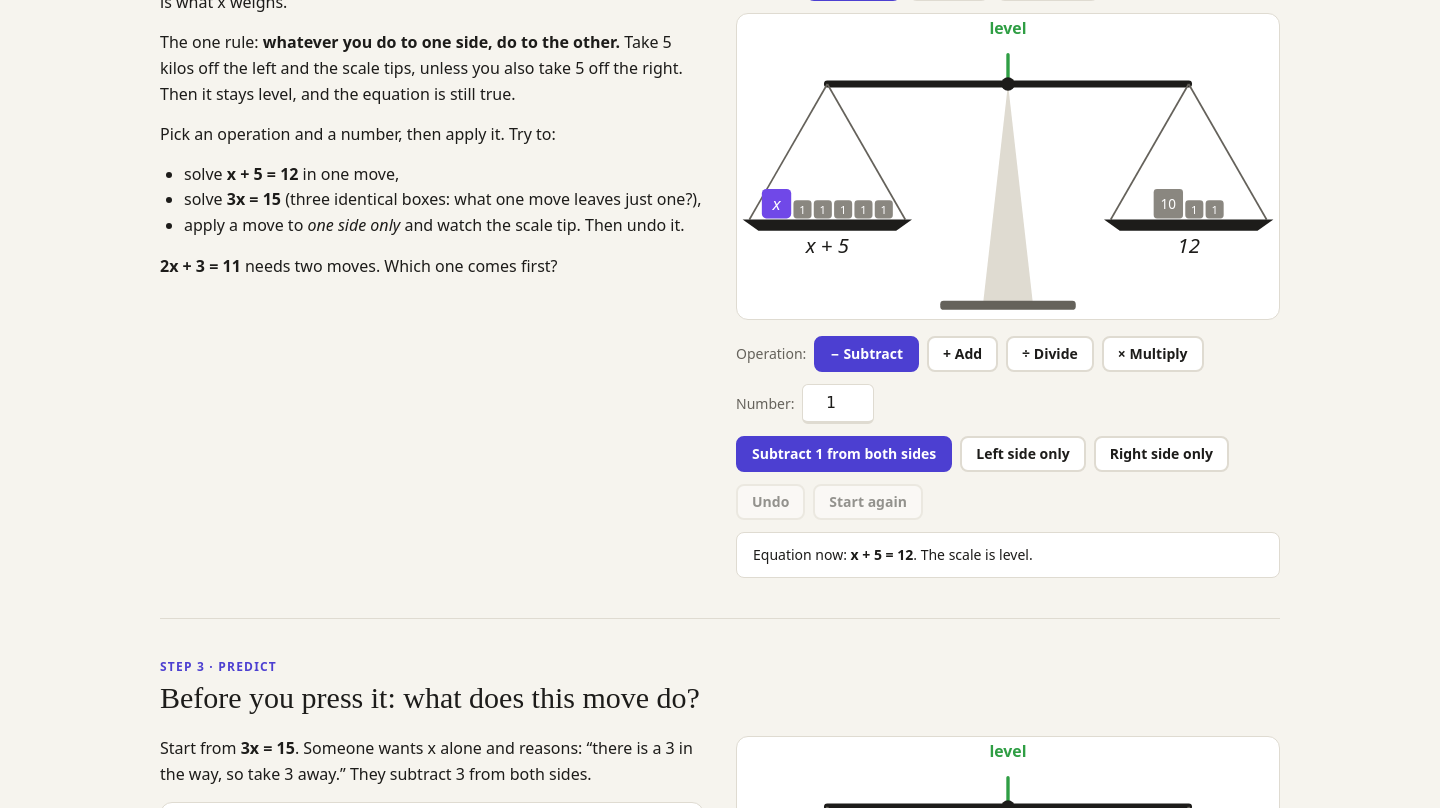
Variables and equations lesson › tips the scale when a move is applied to one side only, and undo levels it
(page scrolled)
Step 1. Replace the text in the number field named "Step 2: amount" with "5" → coordinates (838, 404), box [802,384,874,424]
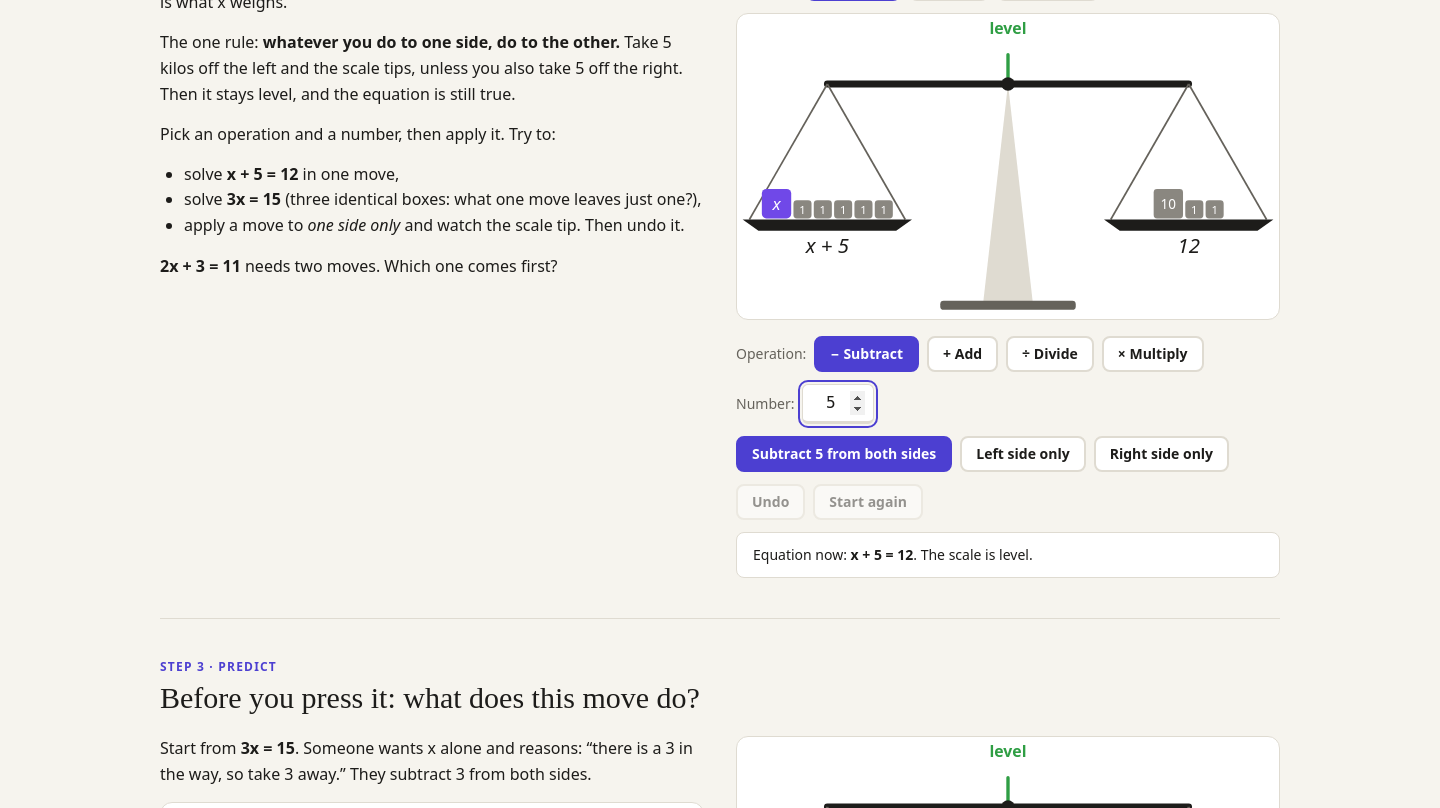
Step 2. Click the button with aria-label "Subtract 5 from the left side only" → coordinates (1023, 454), box [960,436,1086,472]
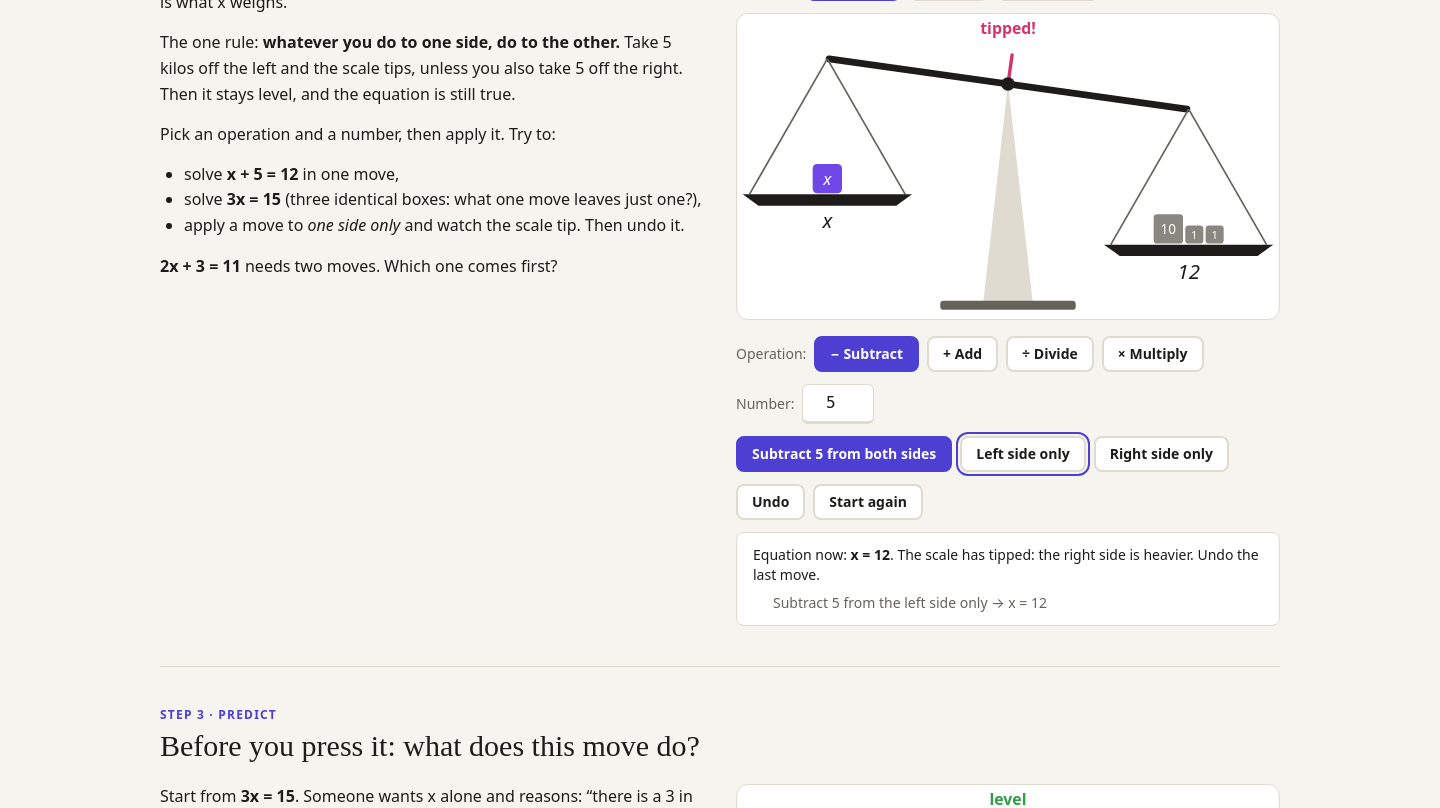
Check: the text "the right side is heavier" is shown, box [753,545,1259,584]
Step 3. Click the button "Undo" → coordinates (771, 502), box [736,484,805,520]
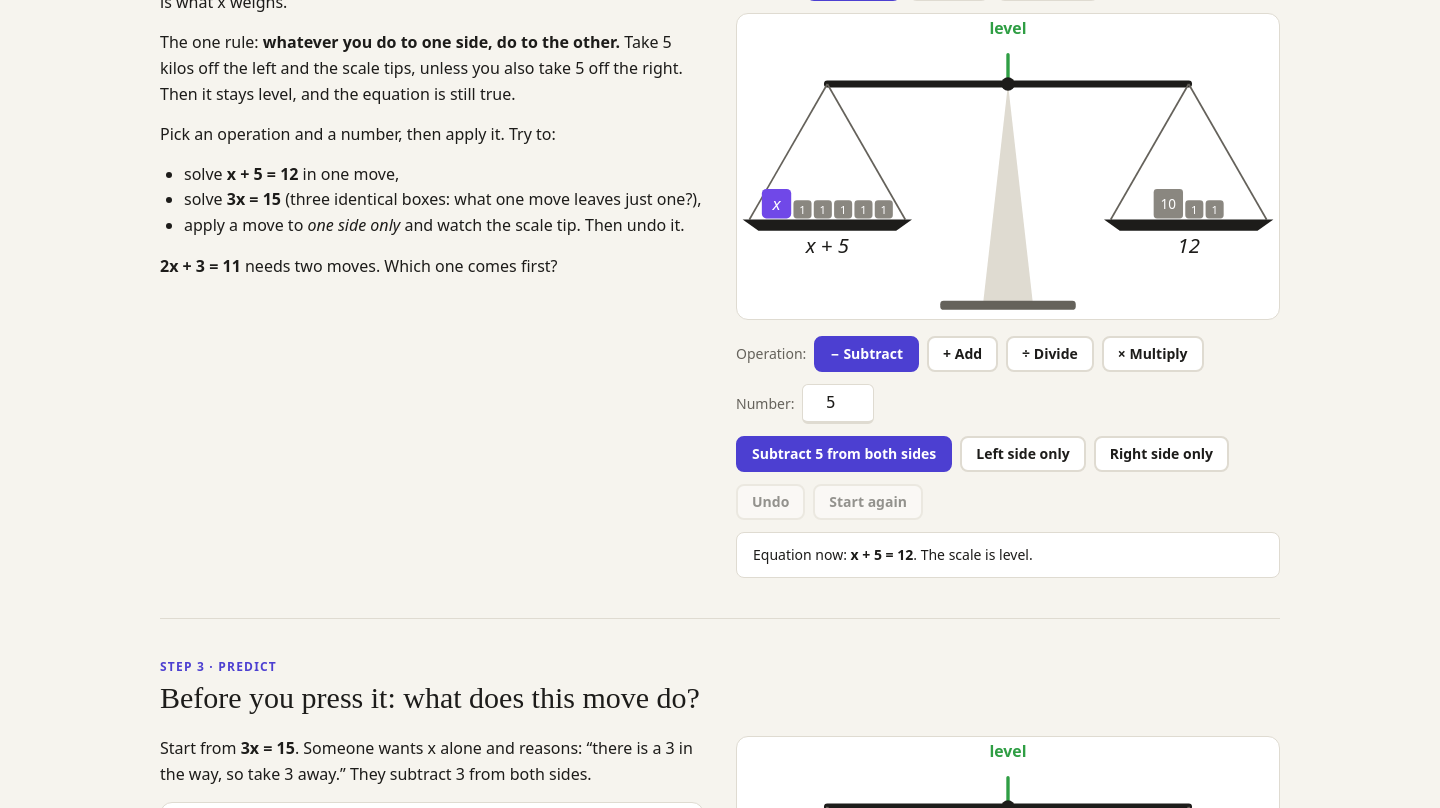
Check: the picture "level x 1 1 1 1 1 x + 5 10 1 1 12" has attribute data-tilt="0", box [736,13,1280,320]
